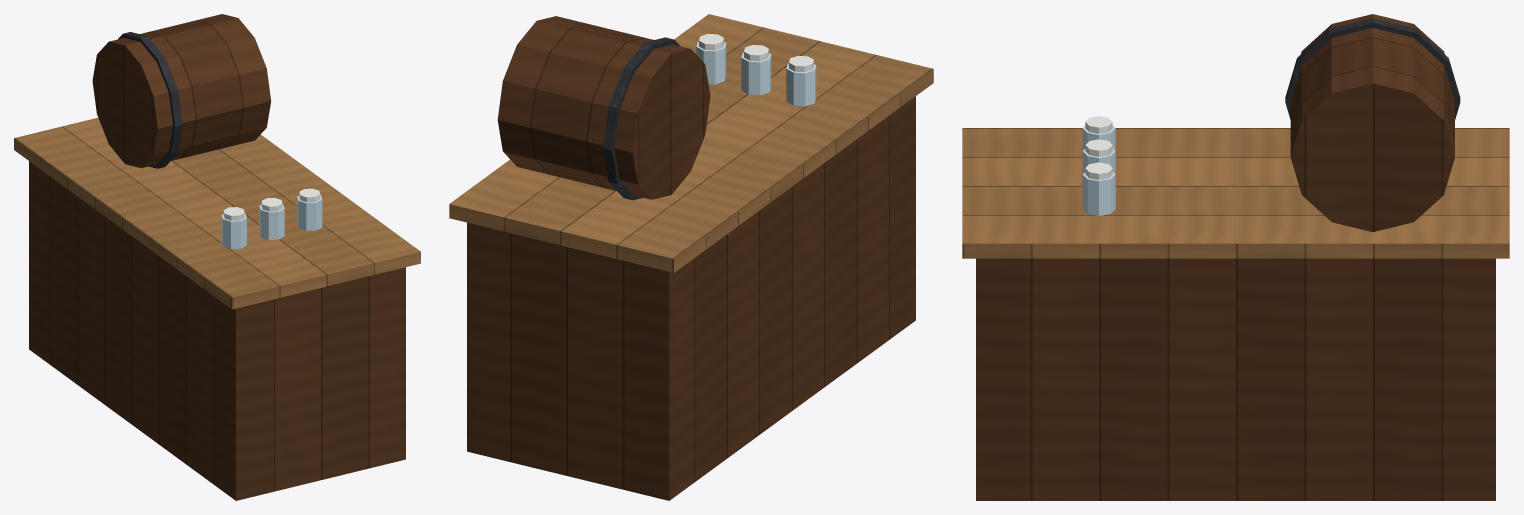
The model's file is szynkwas.glb.
3 views of the same model, side by side, from view 1: azimuth 30°, elevation 25°; view 2: azimuth 150°, elevation 25°; view 3: azimuth 270°, elevation 25° (orthographic). The views are drawn at different scales.
Visible parts, largest first — view 1: szynkwas; view 2: szynkwas; view 3: szynkwas.
Part boxes in pixels (x1,y1,x2,y2): szynkwas: (14,14,420,500); szynkwas: (449,14,933,500); szynkwas: (962,14,1509,500).
Size of the model in its own units: 1 by 1.68 by 2.
5 materials, 3 textured.
